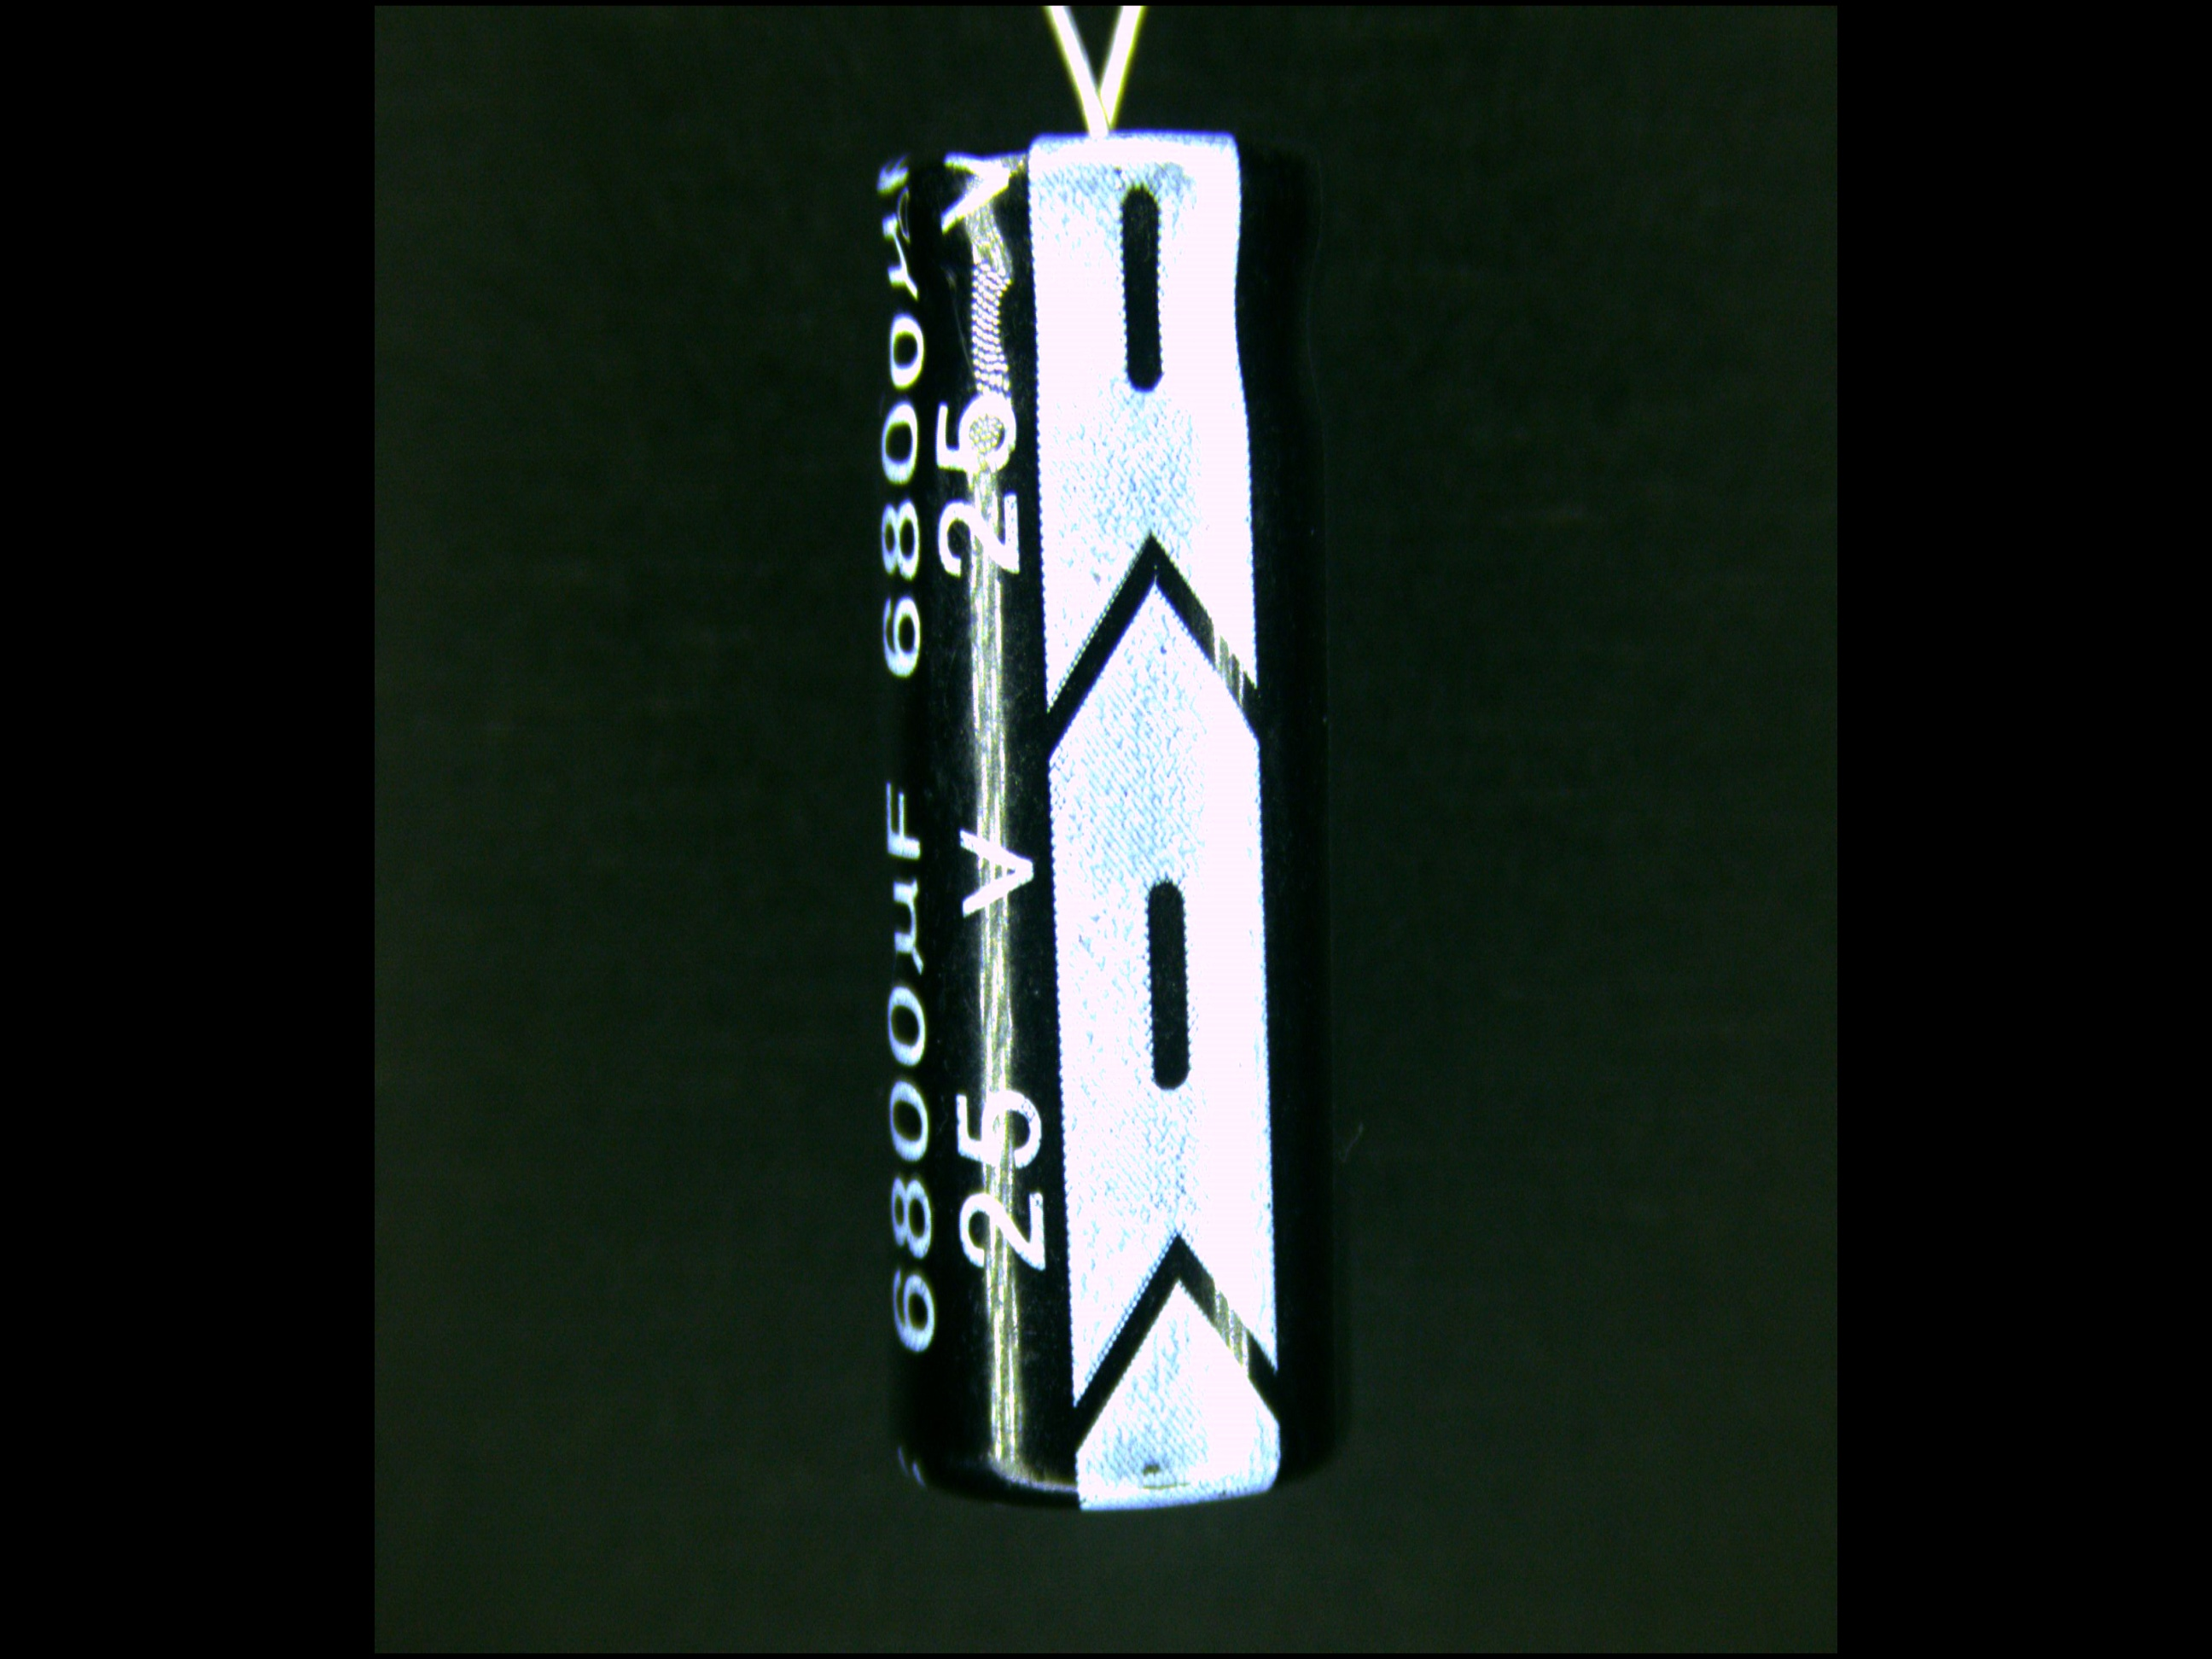c3: (867, 54, 1343, 1511)
